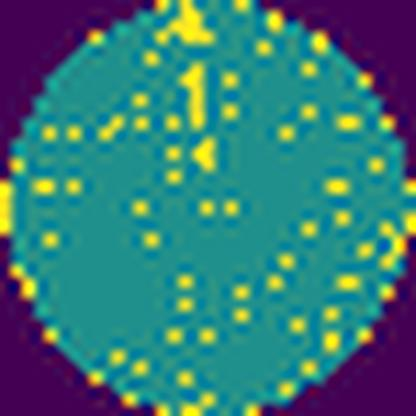Loc: (155, 0, 218, 46), (178, 66, 204, 130), (194, 137, 217, 172)
